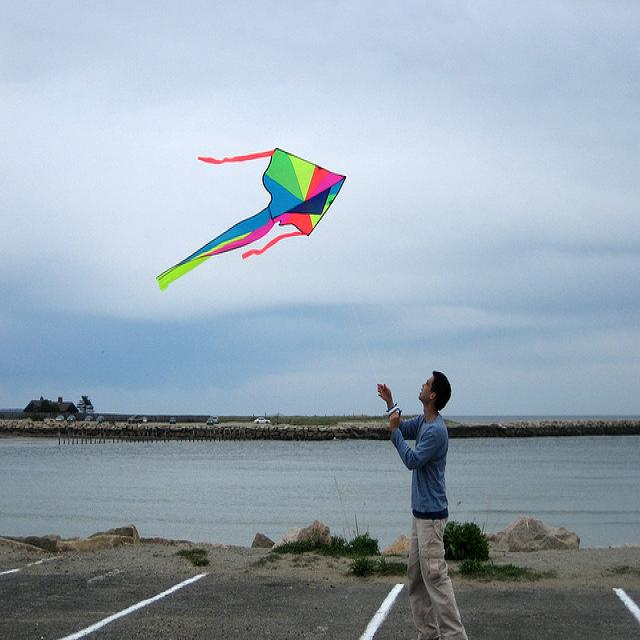Vehicle: (128, 416, 147, 424), (169, 414, 179, 425), (253, 418, 270, 424), (67, 415, 76, 423), (212, 416, 220, 424), (56, 416, 64, 422), (96, 416, 105, 421), (207, 418, 213, 425), (85, 416, 93, 421)
